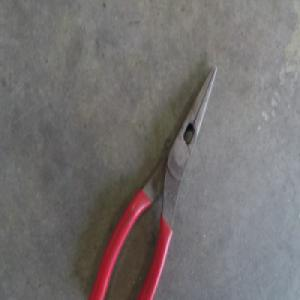Pliers: (88, 67, 217, 299)
